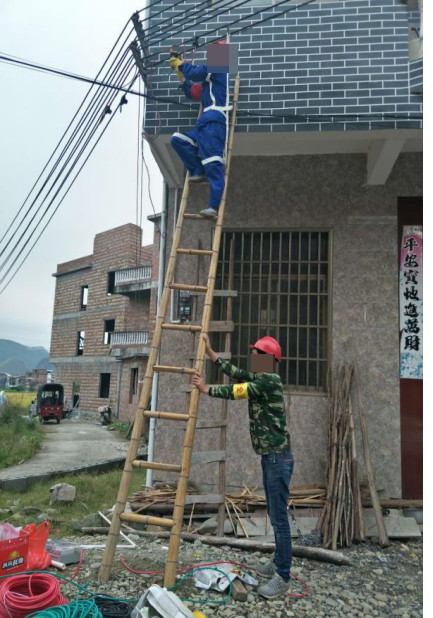badge: (188, 82, 203, 103), (233, 381, 248, 400)
downcloth: (259, 451, 299, 573), (173, 120, 227, 210)
halt: (248, 336, 283, 373), (208, 41, 232, 64)
hand: (193, 371, 211, 394), (203, 336, 219, 361)
longglove: (169, 57, 183, 81)
noear: (257, 353, 272, 370)
person: (195, 333, 304, 585), (172, 39, 233, 220)
safebelt: (171, 61, 229, 165)
upcloth: (213, 357, 292, 457), (182, 61, 229, 112)
